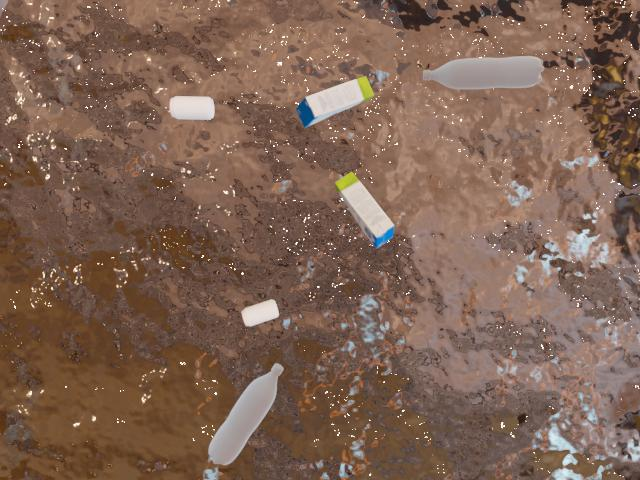Metal: (236, 286, 288, 340), (159, 88, 220, 131)
Plastic: (200, 363, 295, 474), (423, 50, 550, 100)
Trash: (288, 65, 384, 145), (330, 165, 409, 256)
